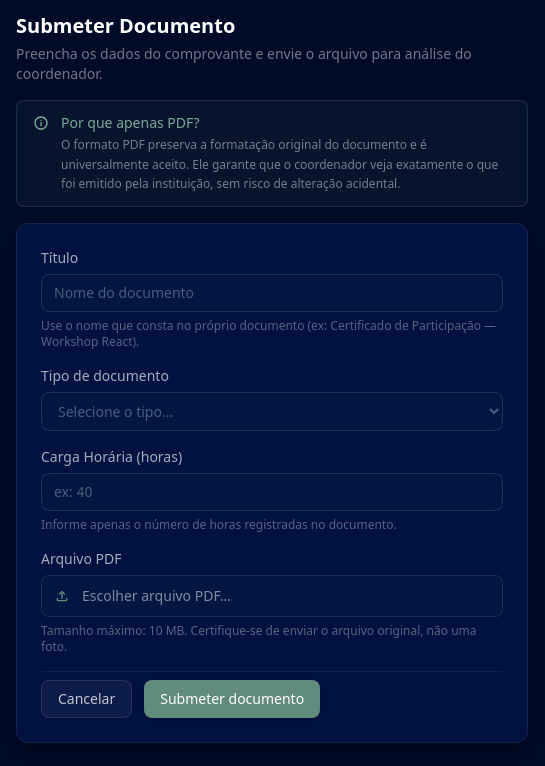
SubmeterDocumento — validação de campos › exibe erro quando tipo não está selecionado
Type "Certificado Válido" into the field with placeholder "Nome do documento" at [272, 292], box [41,274,503,312]
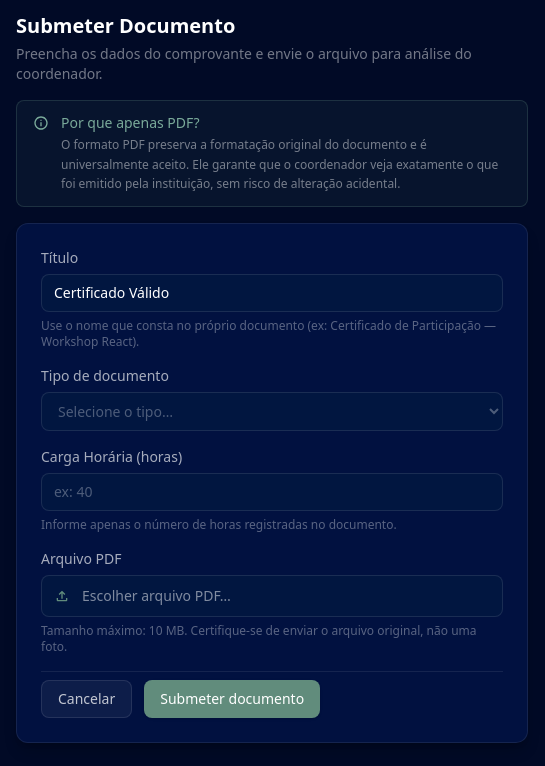
Click the button "Submeter documento" at [232, 698], box [144,680,320,718]
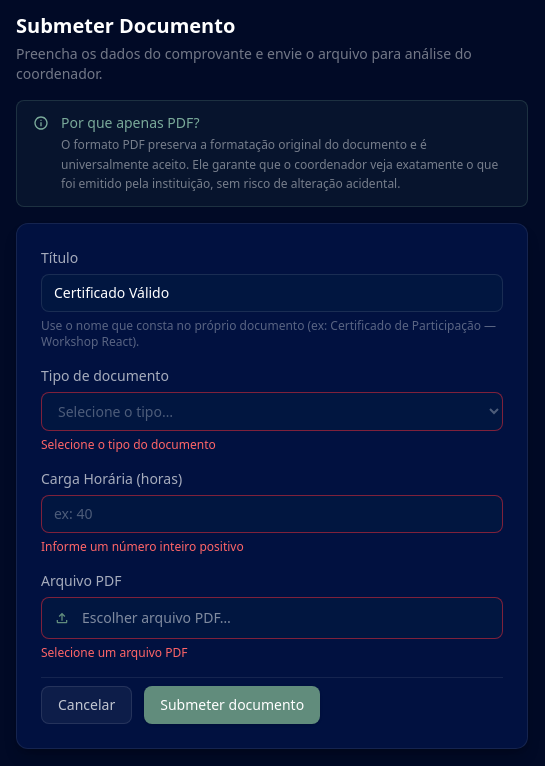
Check: the text "Selecione o tipo do documento" is shown, box [41,436,216,452]
